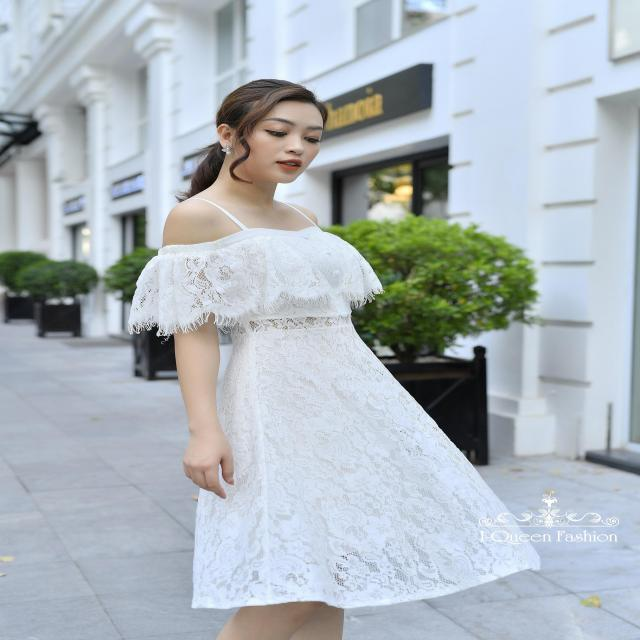clothes: (140, 192, 544, 610)
